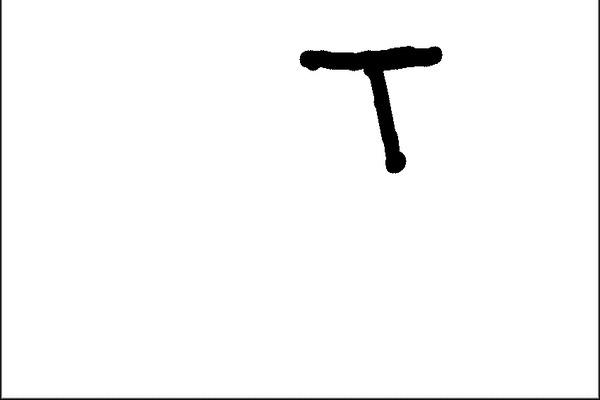T: (291, 33, 449, 188)
